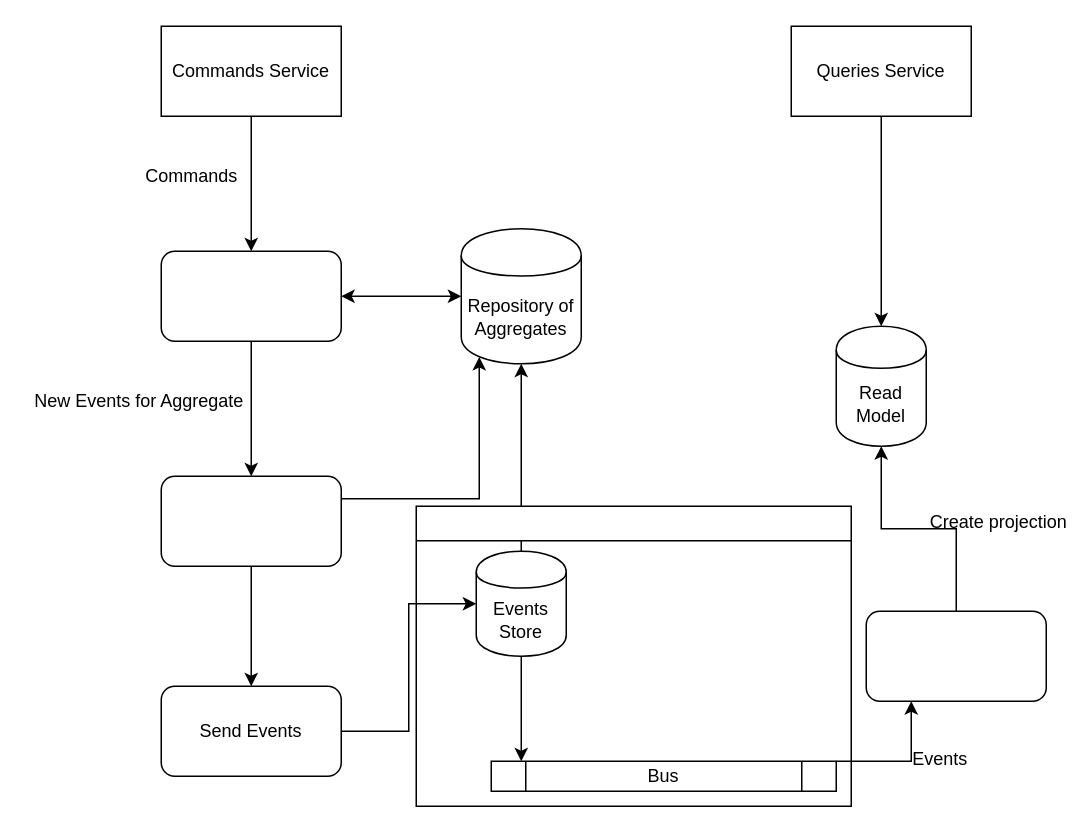
Some shapes in this 1092 by 833 pixel diagram are drawn without their labels. The centre of each missing label's shape, as x and y in pixels:
"CommandHandlers" goes at [250,295].
"EventHandlers" goes at [955,655].
"Kafka" goes at [633,655].
"Replay Events" goes at [250,520].
